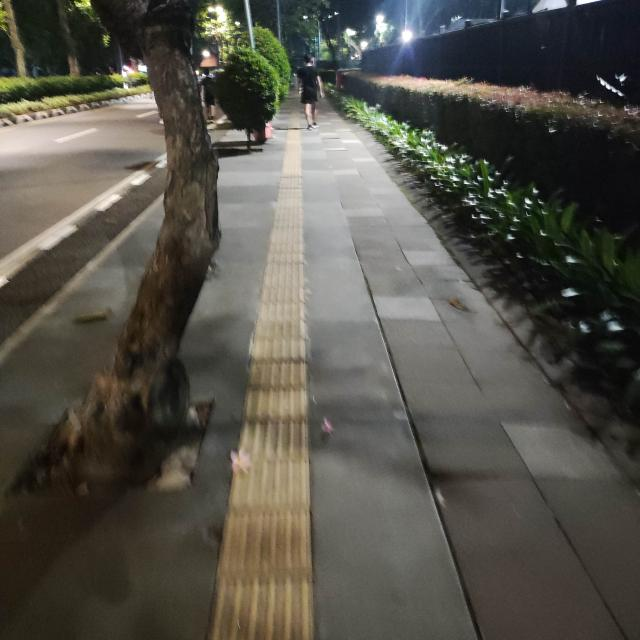lurus: (232, 181, 314, 640)
